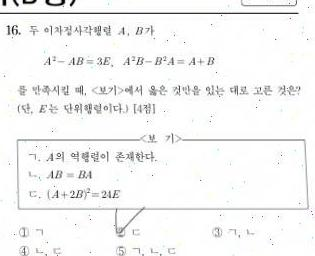choice: (111, 219, 127, 239)
not-choice: (17, 226, 31, 239), (210, 226, 223, 238), (114, 245, 127, 256), (18, 245, 30, 256)
